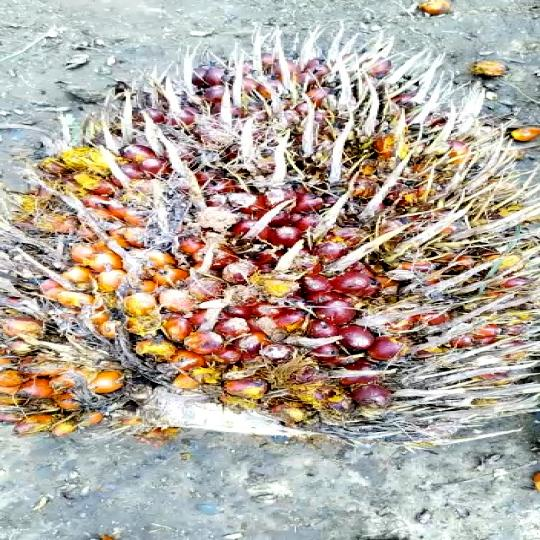masak: (0, 53, 540, 453)
